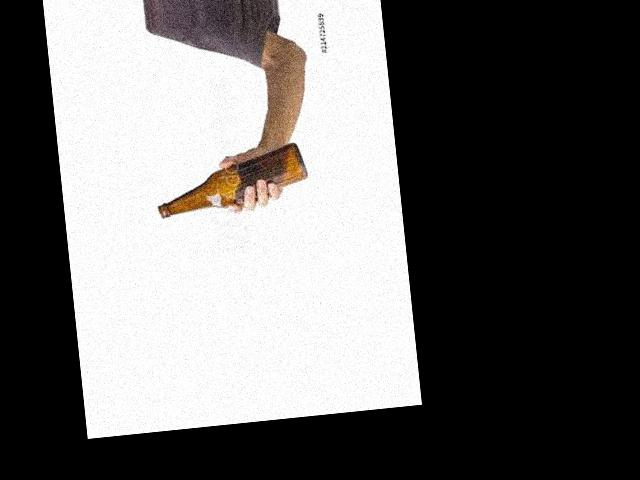beer: (152, 141, 311, 220)
